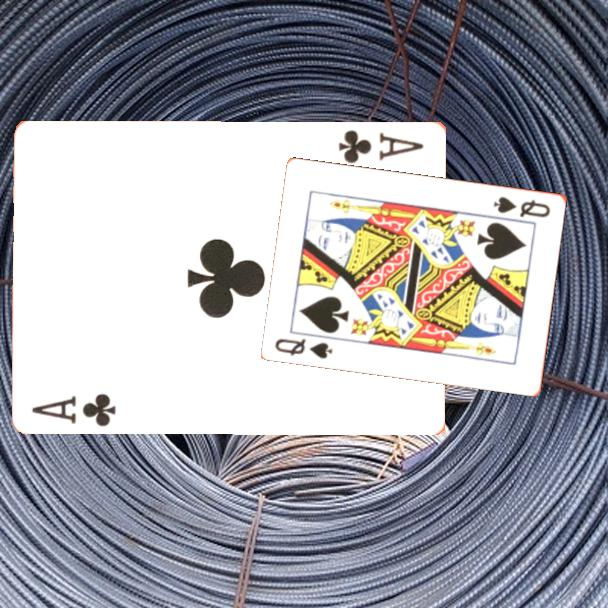c01: (335, 126, 427, 166), (28, 389, 119, 429)
s12: (490, 193, 554, 220), (272, 335, 336, 361)
